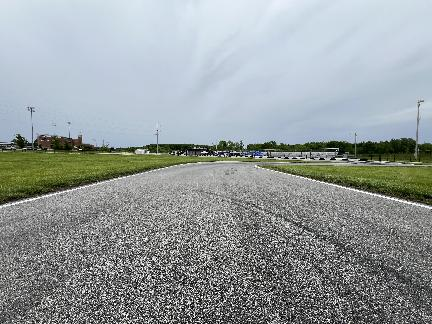Grass: (0, 151, 261, 202), (259, 165, 431, 203)
Lane: (0, 162, 431, 323)
